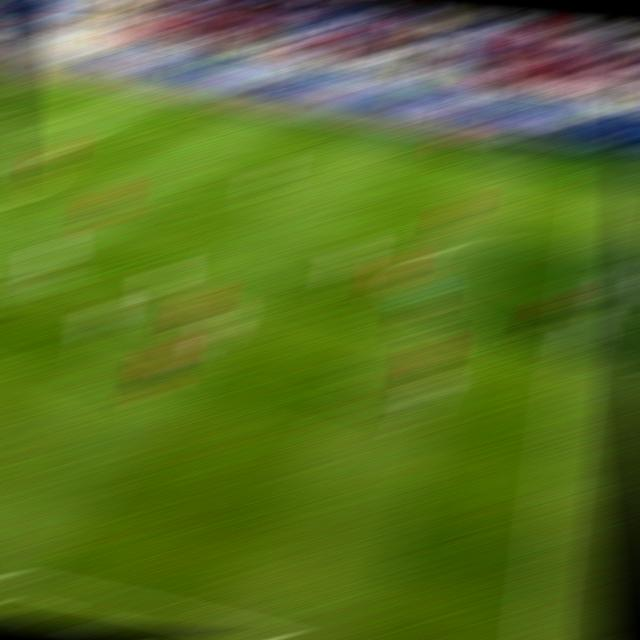bigarea_top_inner: (81, 125, 117, 138)
halfcircle_top: (569, 240, 608, 254)
midline_top_intersection: (581, 155, 618, 169)
top_arc_area_intersection: (0, 159, 37, 172)
